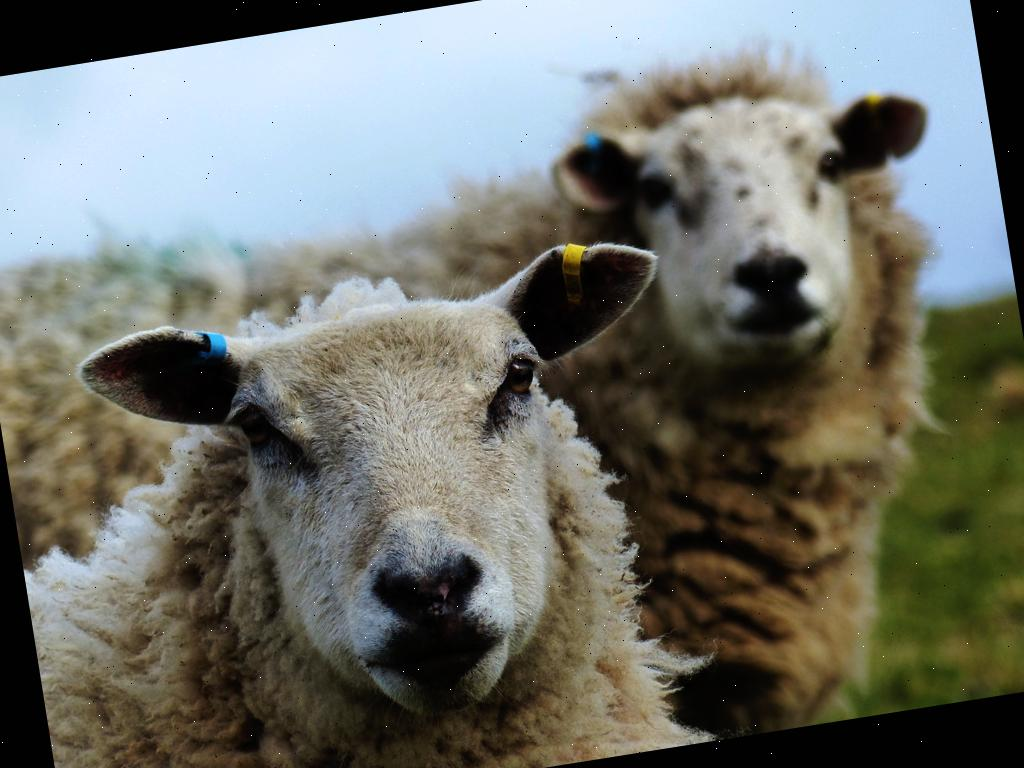Sheep: (0, 14, 1023, 768), (0, 226, 728, 768)
